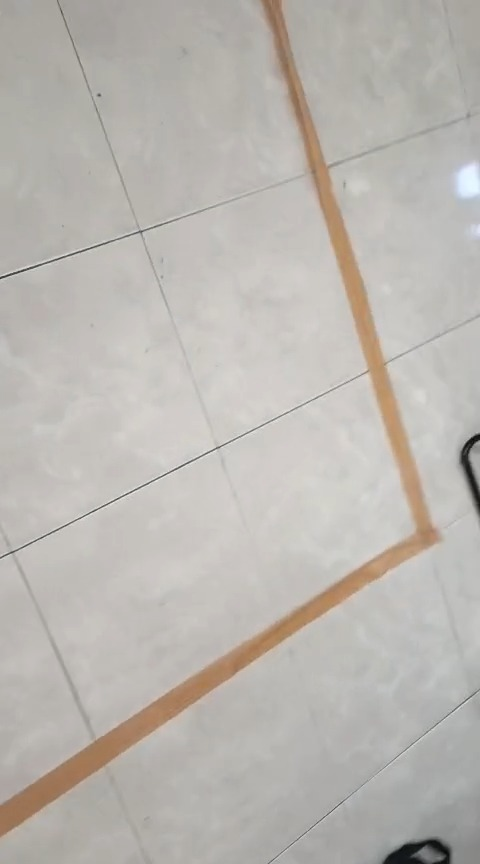floor marking: (0, 0, 439, 836)
